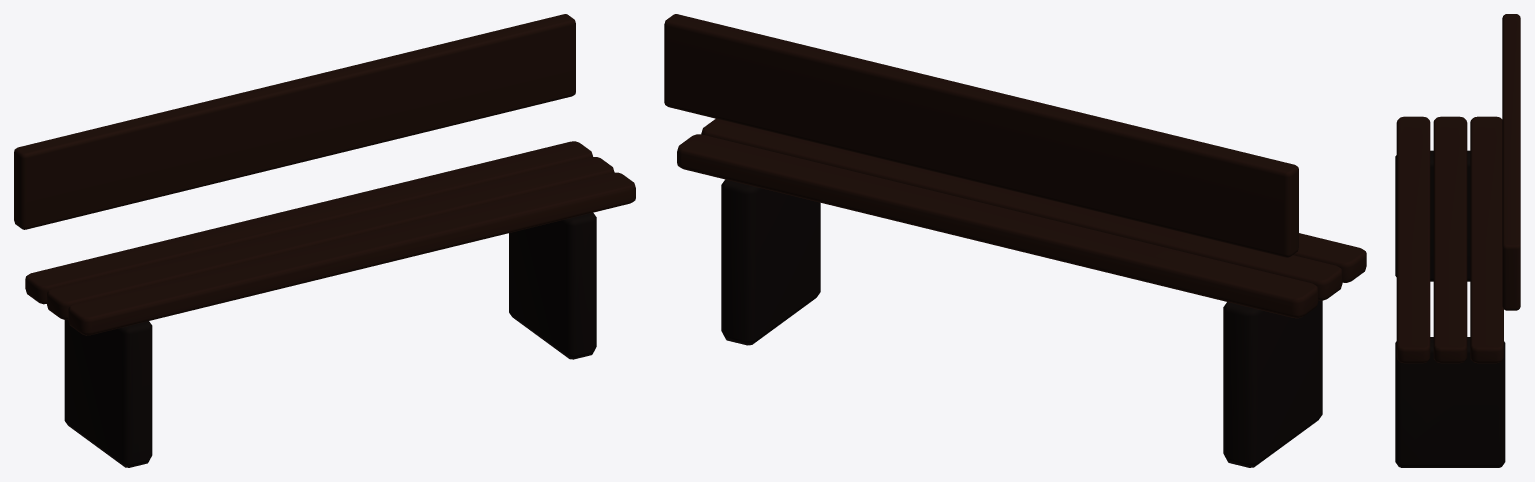
The model's file is Banco.fbx.
The picture shows the model from 3 angles, left to right: view 1: azimuth 30°, elevation 25°; view 2: azimuth 150°, elevation 25°; view 3: azimuth 270°, elevation 25°; orthographic projection. The views are drawn at different scales.
Visible parts, largest first — view 1: Banco; view 2: Banco; view 3: Banco.
Part boxes in pixels (<box>): Banco: <box>14,14,635,467</box>; Banco: <box>664,14,1366,467</box>; Banco: <box>1395,14,1520,467</box>.
Bounding box in the file's own units: 1.8 × 0.8668 × 0.41.
